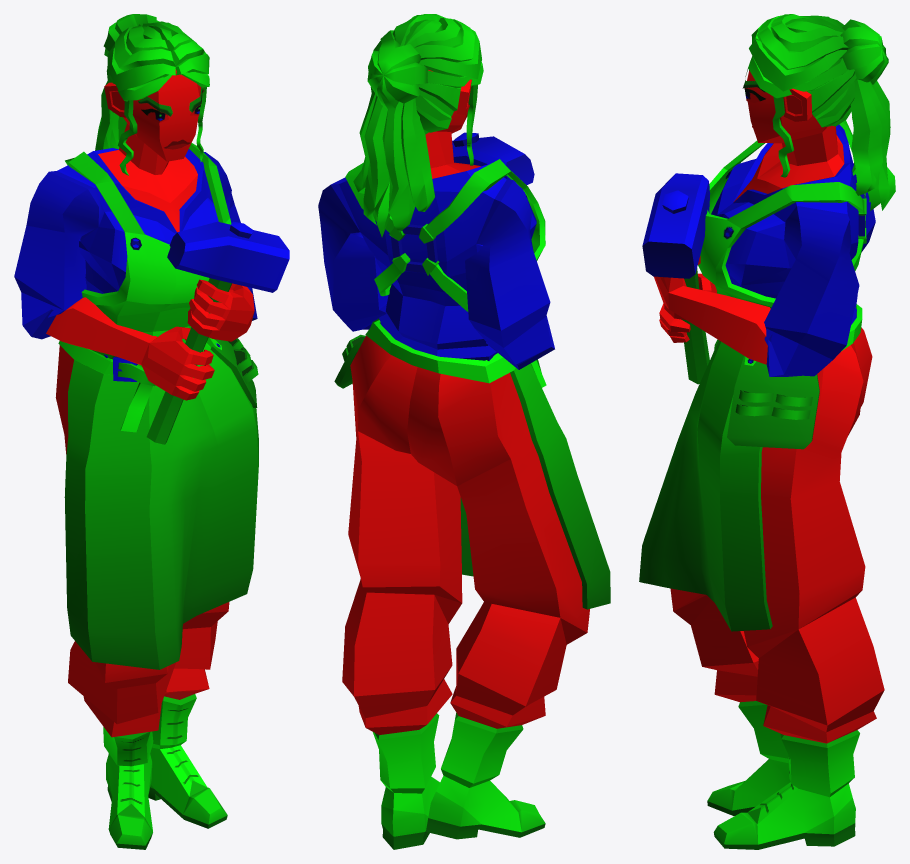
The model's file is F_Blacksmith_prePosed.fbx.
3 views of the same model, side by side, from view 1: azimuth 30°, elevation 25°; view 2: azimuth 150°, elevation 25°; view 3: azimuth 270°, elevation 25° (orthographic). The views are drawn at different scales.
Parts seen in each view (by area): view 1: F_Blacksmith_prePosed; view 2: F_Blacksmith_prePosed; view 3: F_Blacksmith_prePosed.
Boxes of the visible parts, box(x1,y1,x2,y2) form: F_Blacksmith_prePosed: box(14, 14, 289, 849); F_Blacksmith_prePosed: box(318, 14, 610, 849); F_Blacksmith_prePosed: box(639, 14, 895, 849).
Bounding box in the file's own units: 60.92 × 199 × 56.7.
